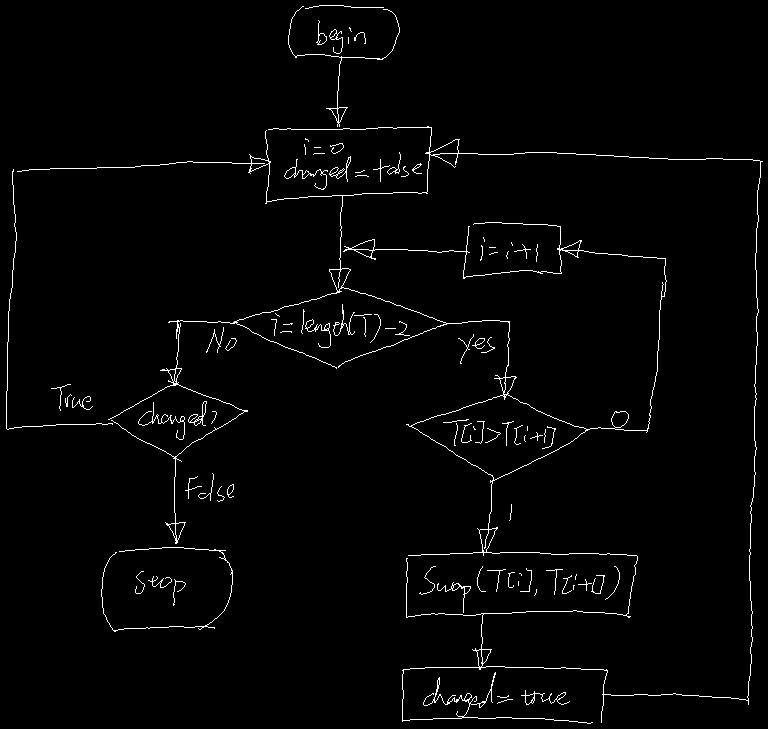arrow: (425, 139, 762, 704), (6, 154, 270, 429), (557, 240, 666, 432), (446, 320, 516, 399), (160, 320, 237, 385), (343, 239, 469, 259), (329, 196, 350, 291), (165, 456, 185, 543), (477, 477, 497, 555), (326, 56, 347, 126), (472, 613, 491, 669)
decision: (233, 287, 448, 368), (406, 393, 589, 482), (108, 380, 247, 461)
process: (406, 552, 637, 617), (265, 126, 431, 203), (402, 666, 607, 723), (463, 222, 561, 278)
terminator: (101, 547, 232, 631), (288, 5, 399, 59)
text: (419, 566, 619, 612), (284, 138, 421, 189), (423, 672, 569, 716), (271, 304, 409, 347), (443, 419, 555, 448), (138, 401, 216, 439), (135, 571, 185, 605), (316, 20, 365, 53), (480, 237, 537, 261), (185, 473, 233, 501), (51, 384, 92, 410), (458, 334, 494, 363), (206, 327, 236, 352), (611, 411, 628, 427), (509, 504, 512, 520)
